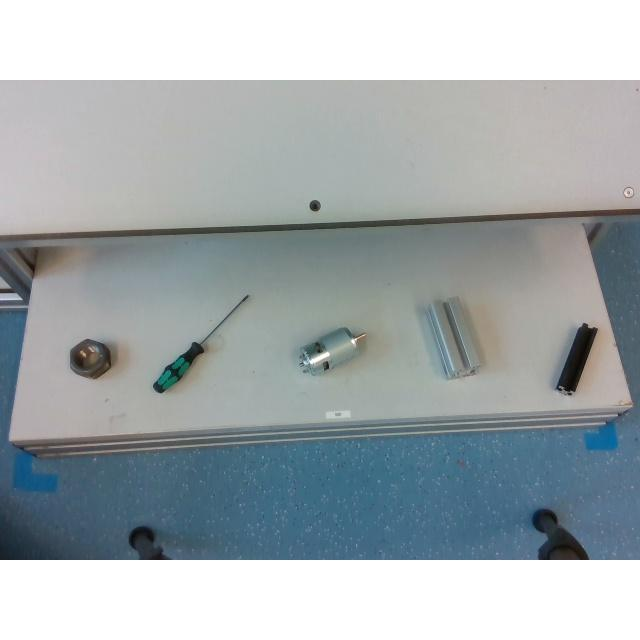F20_20_B: (556, 323, 596, 392)
M30: (70, 339, 110, 377)
Motor2: (300, 327, 364, 371)
S40_40_G: (427, 296, 481, 376)
Screwdriver: (152, 294, 248, 391)
